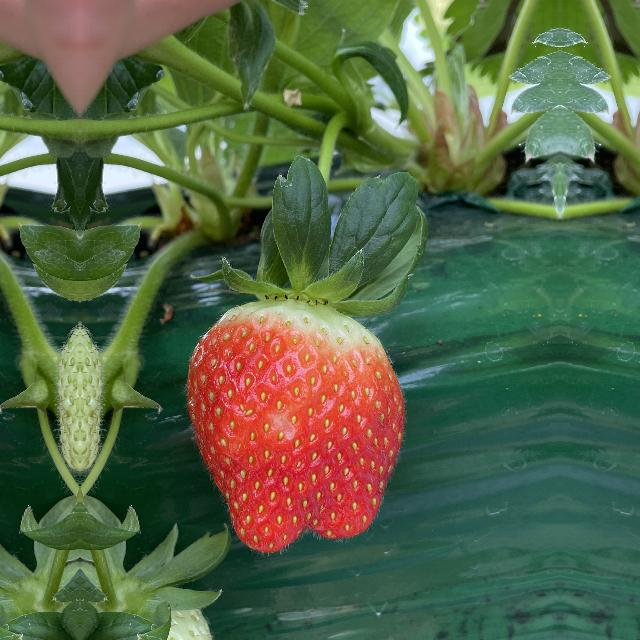Health_100: (168, 273, 418, 561)
